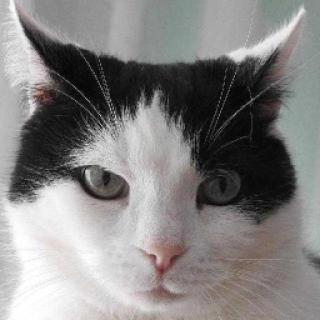cat: (14, 8, 320, 320)
nose: (129, 220, 193, 280)
